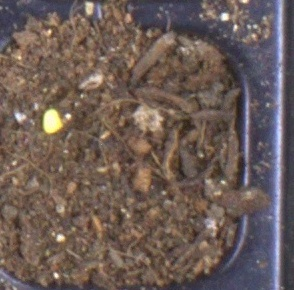chilli seed: (42, 109, 62, 134)
